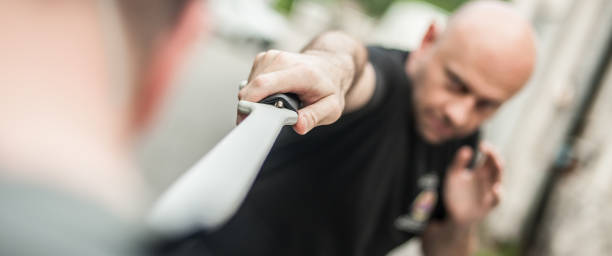knife: (143, 93, 301, 239)
